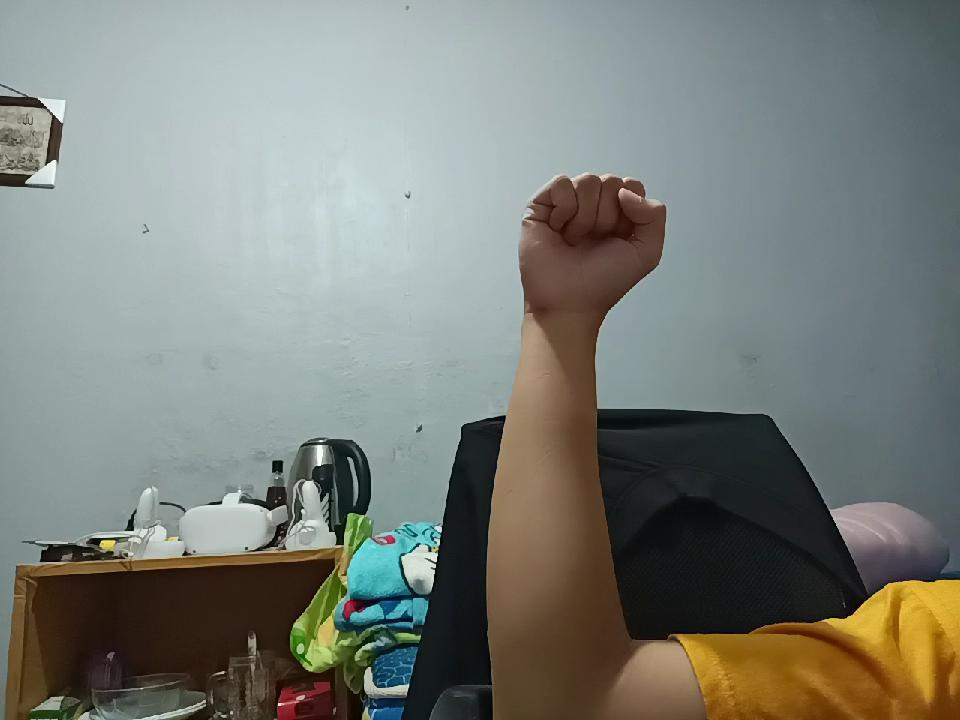rock: (506, 170, 664, 338)
